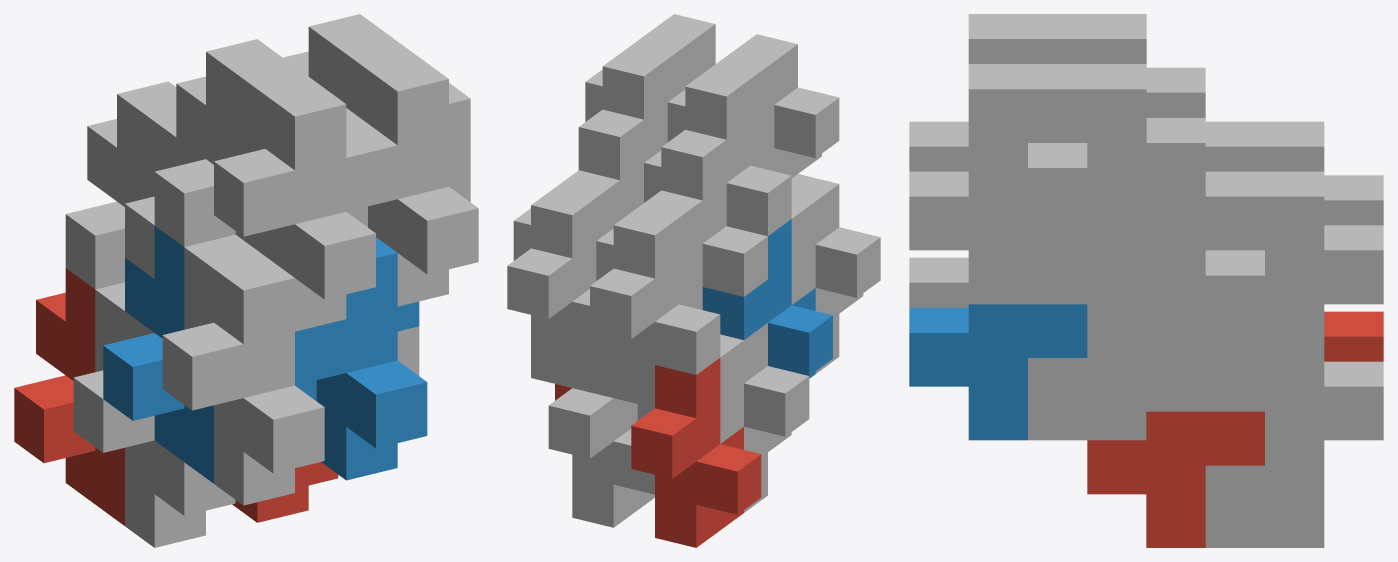
The model's file is tiling.obj.
3 renders of one model, left to right at view 1: azimuth 30°, elevation 25°; view 2: azimuth 150°, elevation 25°; view 3: azimuth 270°, elevation 25°, orthographic. The views are drawn at different scales.
Visible parts, largest first — view 1: copy_2_domain_2, copy_2_domain_4, copy_2_domain_8, copy_2_domain_6, copy_2_domain_1, copy_1_domain_1, copy_1_domain_2, copy_1_domain_4, copy_1_domain_3, copy_2_domain_3, copy_1_domain_8, copy_2_domain_5 (+1 smaller); view 2: copy_1_domain_3, copy_1_domain_1, copy_1_domain_7, copy_1_domain_4, copy_1_domain_5, copy_2_domain_4, copy_1_domain_8, copy_2_domain_2, copy_1_domain_2, copy_2_domain_3, copy_2_domain_1, copy_2_domain_8 (+1 smaller); view 3: copy_2_domain_8, copy_2_domain_7, copy_1_domain_7, copy_1_domain_8, copy_1_domain_5, copy_2_domain_6, copy_2_domain_5, copy_1_domain_6, copy_2_domain_4, copy_1_domain_3, copy_1_domain_4, copy_1_domain_1 (+2 smaller).
Part boxes in pixels (box(x1,y1,x2,y2)): copy_2_domain_2: box(162, 234, 324, 505); copy_2_domain_4: box(214, 61, 375, 331); copy_2_domain_8: box(338, 35, 478, 306); copy_2_domain_6: box(295, 237, 427, 480); copy_2_domain_1: box(73, 282, 235, 547); copy_1_domain_1: box(14, 268, 124, 525); copy_1_domain_2: box(103, 226, 316, 483); copy_1_domain_4: box(154, 39, 367, 255); copy_1_domain_3: box(65, 81, 176, 289); copy_2_domain_3: box(125, 108, 205, 278); copy_1_domain_8: box(283, 14, 470, 201); copy_2_domain_5: box(232, 462, 338, 522); copy_1_domain_3: box(590, 208, 720, 407); copy_1_domain_1: box(631, 358, 761, 547); copy_1_domain_7: box(507, 187, 613, 387); copy_1_domain_4: box(661, 69, 791, 236); copy_1_domain_5: box(548, 345, 654, 527); copy_2_domain_4: box(667, 34, 839, 177); copy_1_domain_8: box(578, 49, 667, 202); copy_2_domain_2: box(791, 174, 880, 373); copy_1_domain_2: box(702, 219, 832, 378); copy_2_domain_3: box(596, 183, 767, 303); copy_2_domain_1: box(637, 323, 809, 512); copy_2_domain_8: box(585, 14, 715, 121); copy_2_domain_8: box(909, 64, 1087, 304); copy_2_domain_7: box(1087, 171, 1264, 411); copy_1_domain_7: box(1205, 171, 1383, 411); copy_1_domain_8: box(1028, 64, 1205, 304); copy_1_domain_5: box(1205, 361, 1383, 547); copy_2_domain_6: box(909, 304, 1087, 440); copy_2_domain_5: box(1087, 411, 1264, 547); copy_1_domain_6: box(1028, 358, 1146, 440); copy_2_domain_4: box(909, 14, 1087, 171); copy_1_domain_3: box(1265, 121, 1383, 225); copy_1_domain_4: box(1087, 14, 1205, 117); copy_1_domain_1: box(1324, 311, 1383, 361).
Size of the model in its own units: 6 by 9 by 8.
